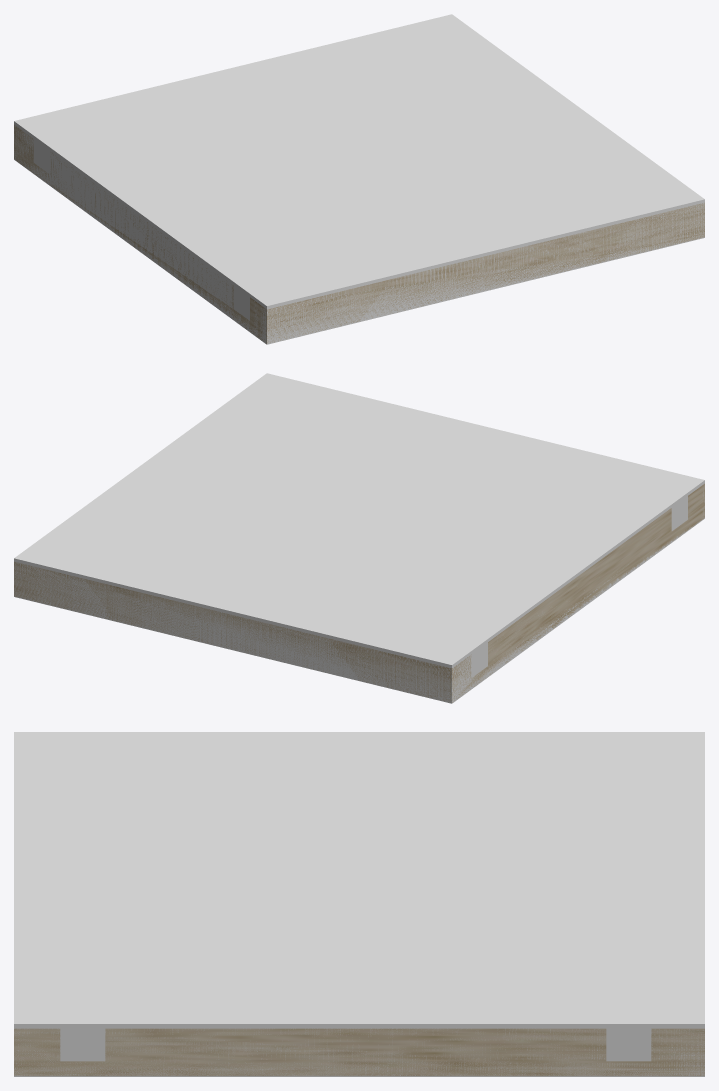
Rendered from Tail.gltf.
3 views of the same model, one above another, from view 1: azimuth 30°, elevation 25°; view 2: azimuth 150°, elevation 25°; view 3: azimuth 270°, elevation 25° (orthographic). The views are drawn at different scales.
Visible parts, largest first — view 1: COL, Cube; view 2: COL, Cube; view 3: COL, Cube.
Part boxes in pixels (left/top/right/bottom): COL: left=14, top=14, right=704, bottom=344; Cube: left=14, top=124, right=704, bottom=343; COL: left=14, top=373, right=704, bottom=703; Cube: left=14, top=483, right=704, bottom=702; COL: left=14, top=732, right=704, bottom=1076; Cube: left=14, top=1028, right=704, bottom=1075.
Size of the model in its own units: 2 by 0.1683 by 2.
Materials: 1 (1 with a texture image).
